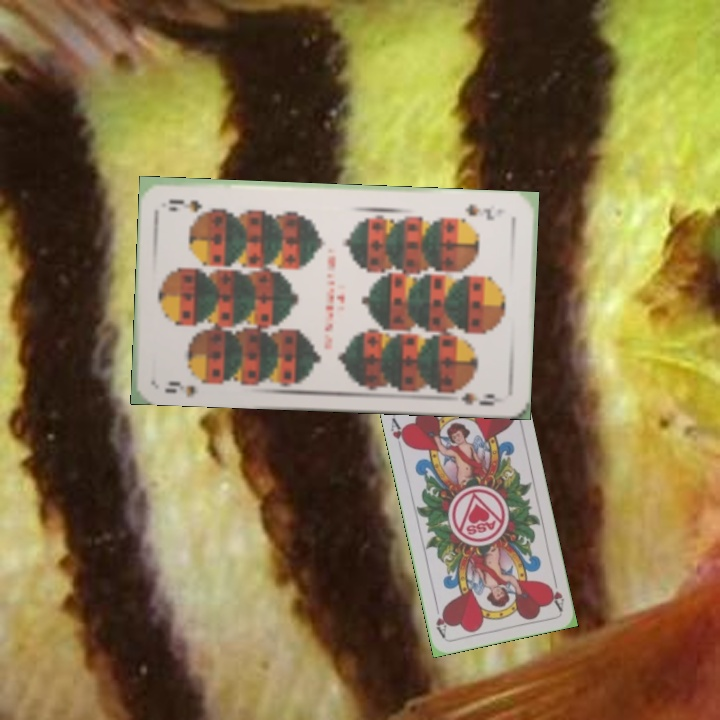HA: (544, 573, 567, 613), (387, 415, 410, 450)
S9: (161, 371, 215, 398), (461, 200, 497, 223)
